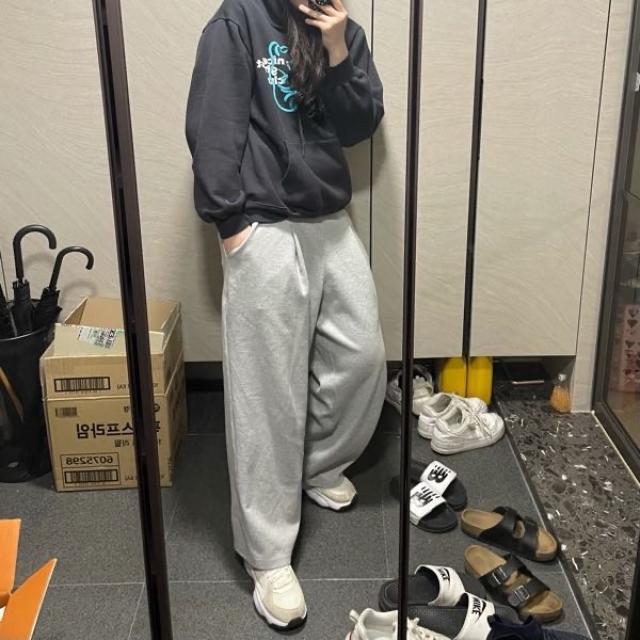mtm: (186, 0, 385, 237)
trainingpants: (221, 212, 388, 575)
